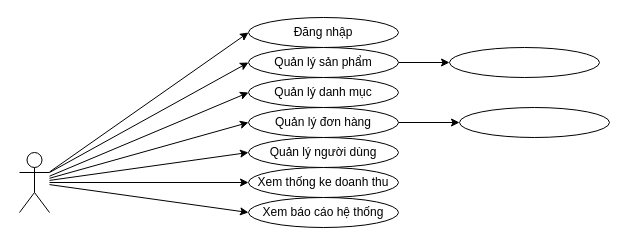
Image size: 627x251. Some labels were removed from this diagram. The shapes that lost their labels are listed below. From the top down, each one's box as (x1, y1, x2, y2) in pixels, then its label:
(448, 46, 600, 78): Thêm, sửa, xóa sản phẩm
(458, 106, 610, 138): Cập nhật trạng thái đơn hàng
(18, 152, 50, 212): Admin
